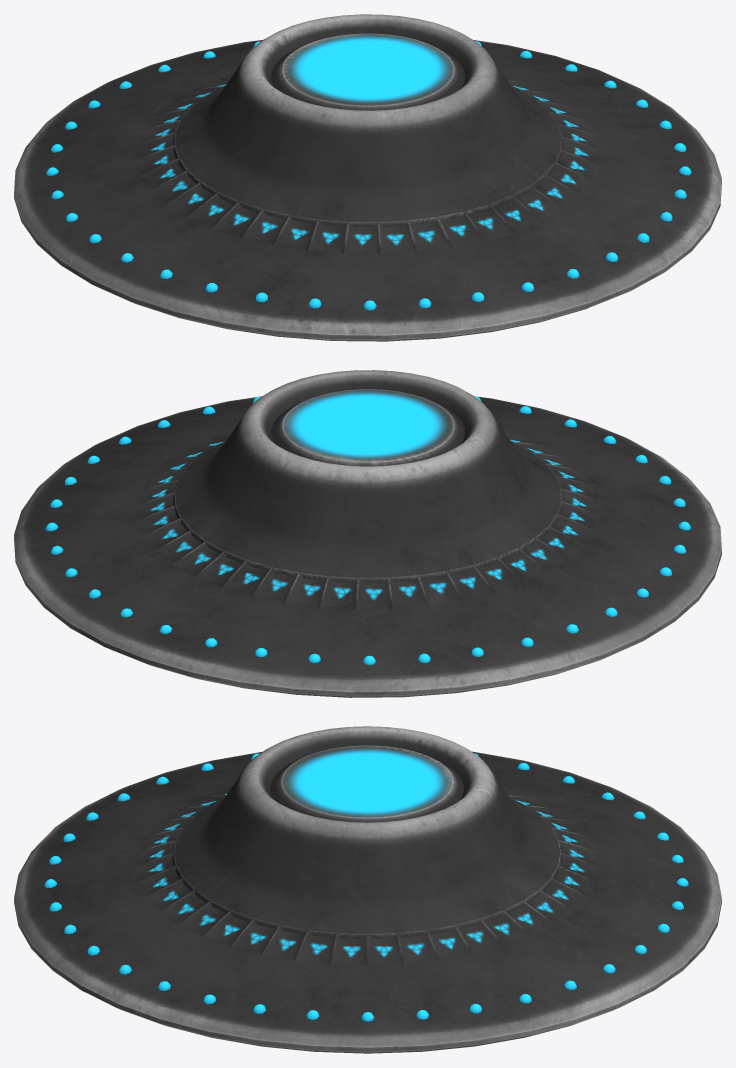
File: UFO.fbx
3 renders of one model, top to bottom at view 1: azimuth 30°, elevation 25°; view 2: azimuth 150°, elevation 25°; view 3: azimuth 270°, elevation 25°, orthographic.
Visible parts, largest first — view 1: UFO; view 2: UFO; view 3: UFO.
Part boxes in pixels (box(x1,y1,x2,y2)): UFO: box(14, 14, 721, 341); UFO: box(14, 370, 721, 697); UFO: box(14, 726, 721, 1053).
Size of the model in its own units: 589 by 121 by 589.
